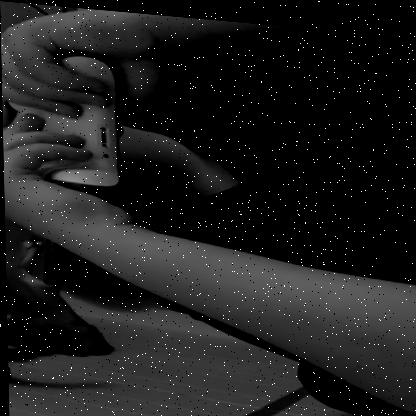streamer: (0, 0, 416, 412)
